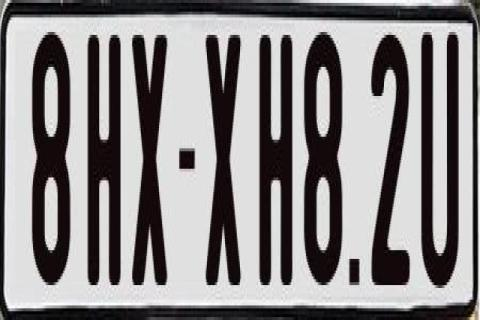0: (30, 24, 74, 294), (370, 32, 410, 296), (303, 29, 343, 288)
H: (84, 27, 122, 280), (257, 32, 291, 285)
U: (420, 29, 458, 285)
X: (206, 35, 248, 291), (131, 35, 167, 288)
